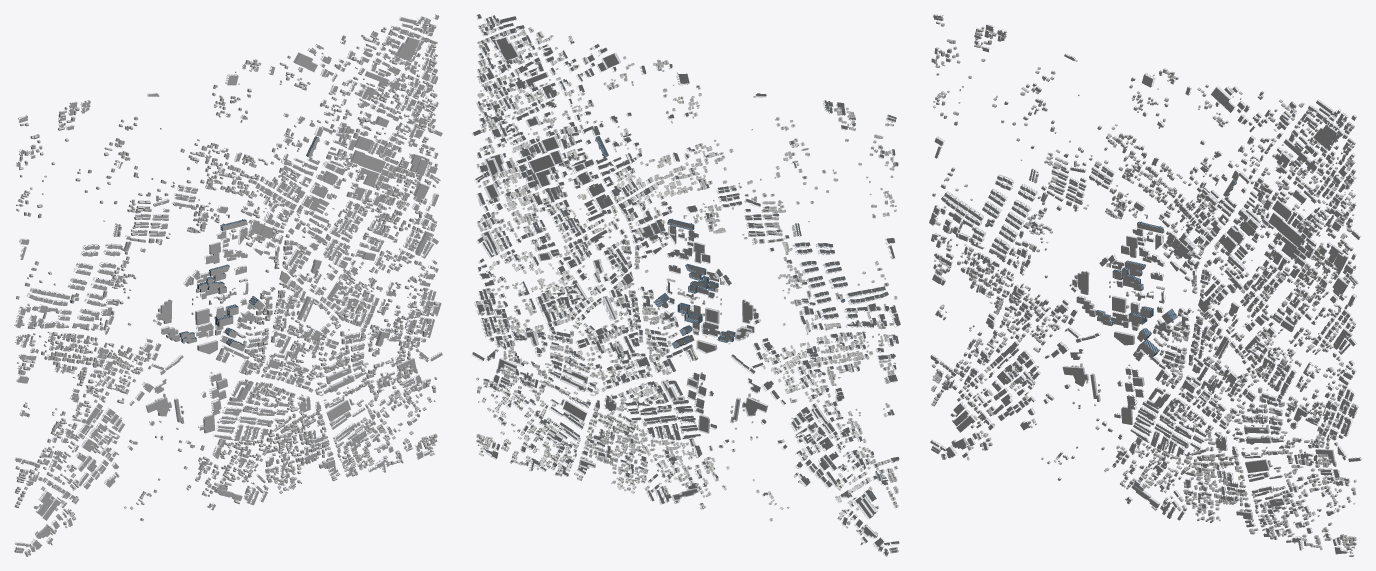
Rendered from buildings_2_2.obj.
3 views of the same model, side by side, from view 1: azimuth 30°, elevation 25°; view 2: azimuth 150°, elevation 25°; view 3: azimuth 330°, elevation 25° (orthographic).
Size of the model in its own units: 2039 by 2061 by 52.82.
Materials: 6 (6 with a texture image).
